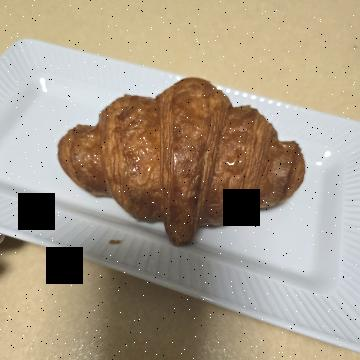croissant: (66, 48, 248, 314)
